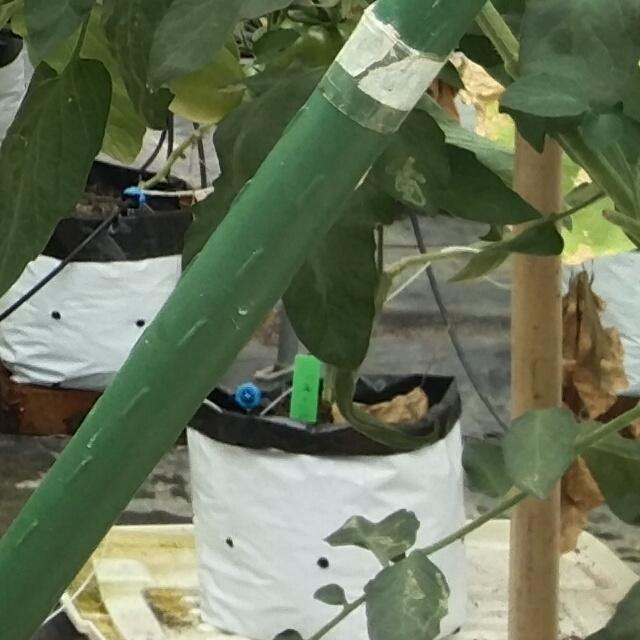Tomato target spot leaf: (369, 109, 450, 220), (364, 548, 452, 640)
